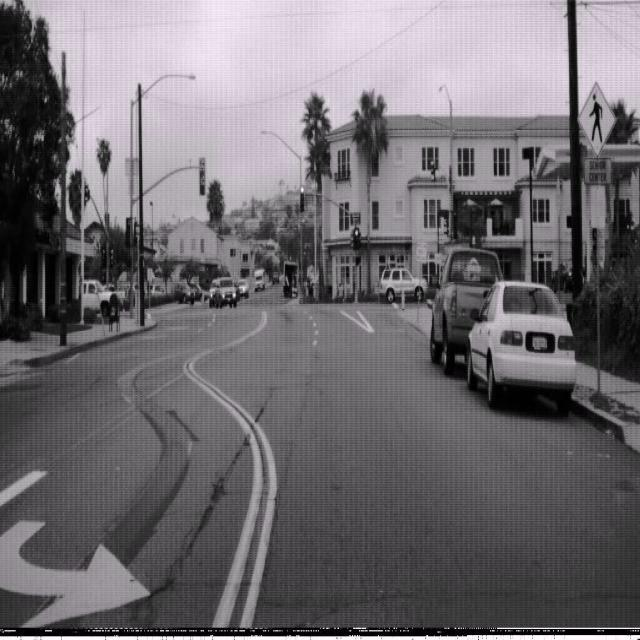pedestrianCrossing: (577, 81, 617, 158)
